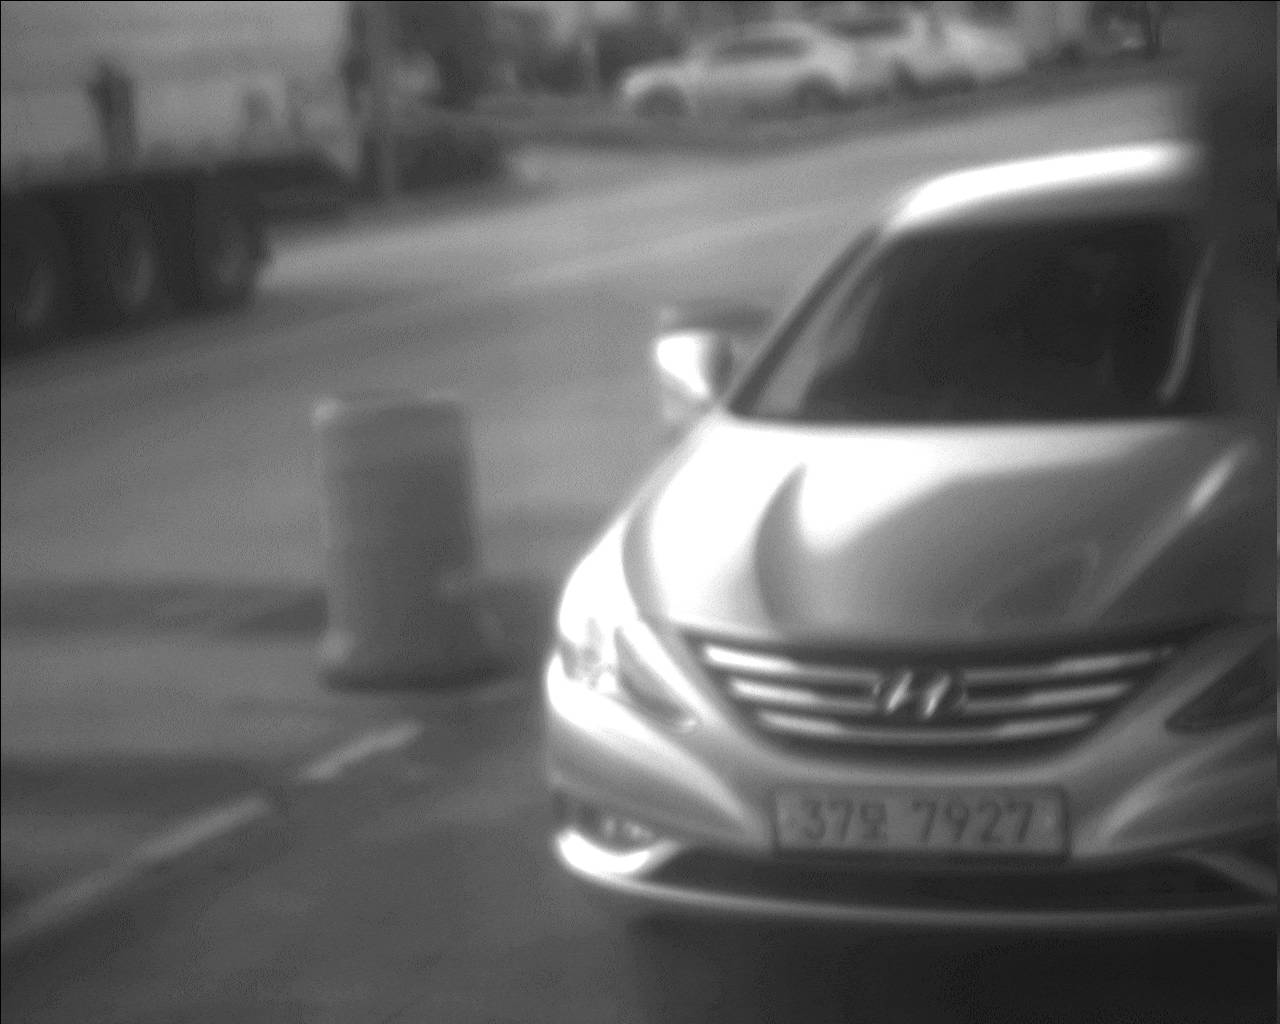car: (536, 138, 1278, 951), (1, 1, 368, 357), (608, 15, 894, 126)
plate: (761, 777, 1072, 862)
